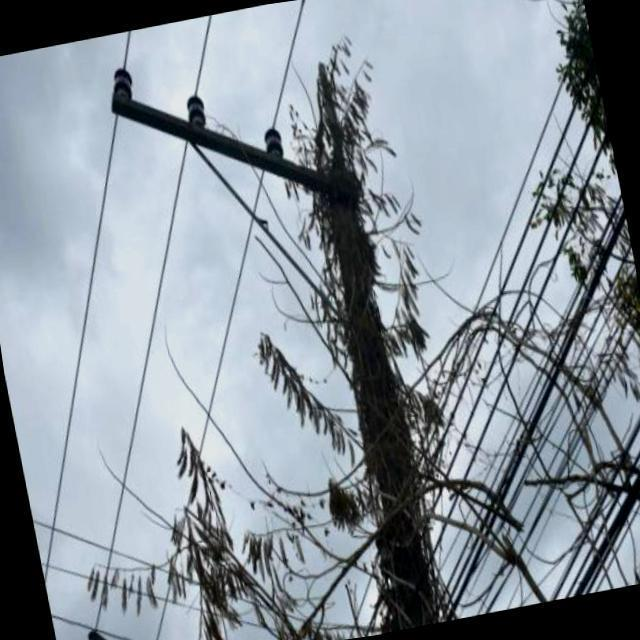critical vegetation: (258, 31, 488, 634)
